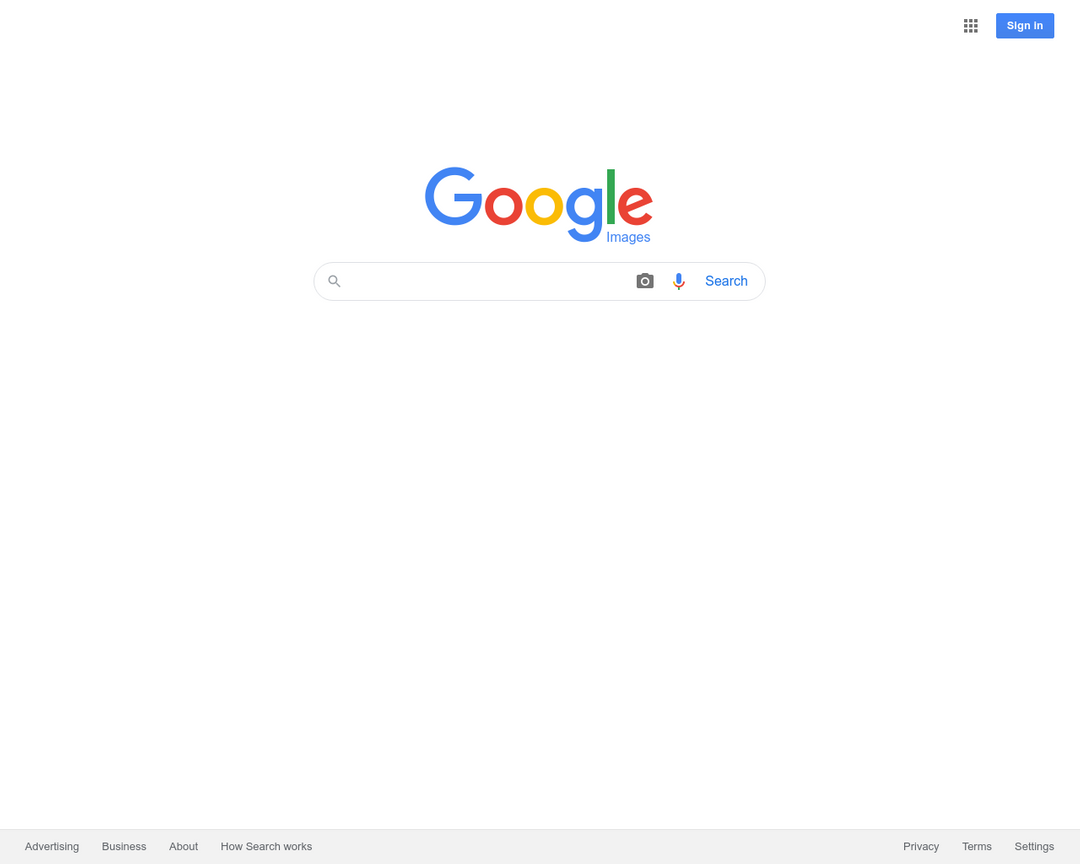Google: (489, 28, 593, 68)
